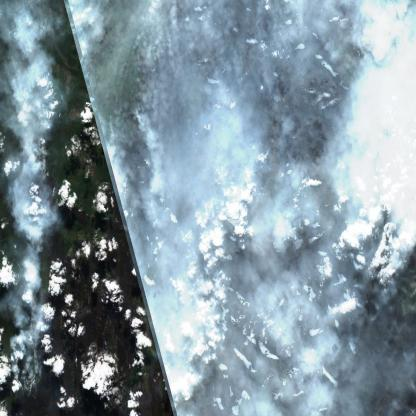fire: (369, 233, 402, 296), (12, 357, 42, 398)
